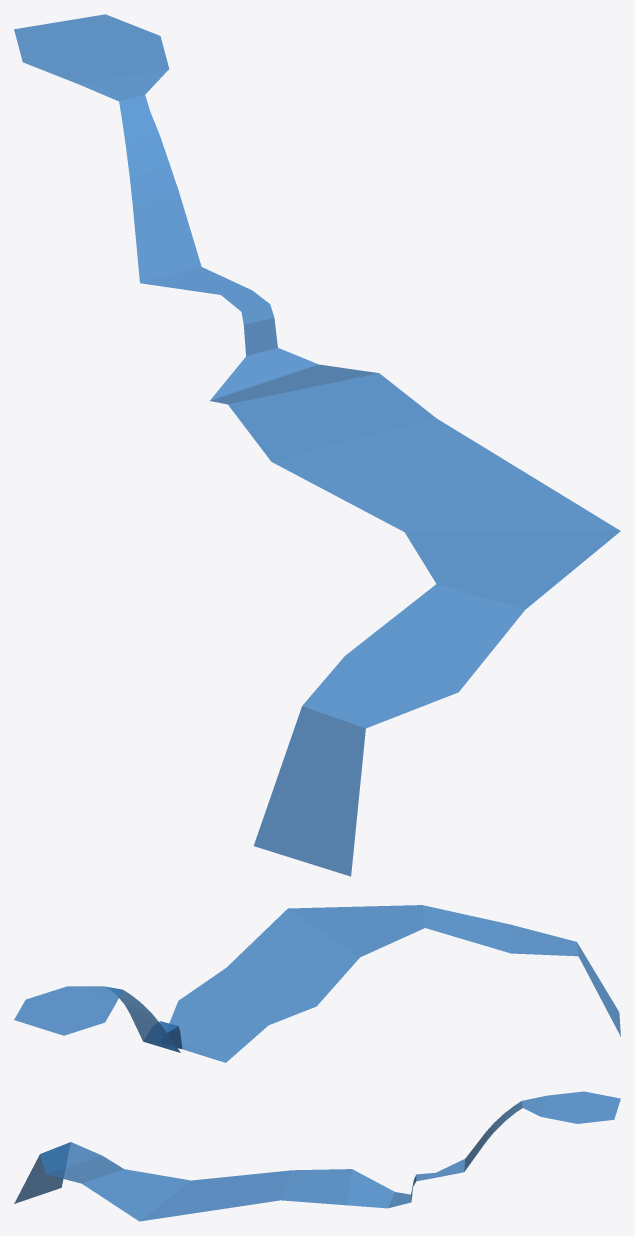
The model's file is BRUME_Blockout_D_Eau 1.fbx.
The picture shows the model from 3 angles, top to bottom: view 1: azimuth 30°, elevation 25°; view 2: azimuth 150°, elevation 25°; view 3: azimuth 270°, elevation 25°; orthographic projection. The views are drawn at different scales.
Visible parts, largest first — view 1: BRUME_Blockout_D_Eau; view 2: BRUME_Blockout_D_Eau; view 3: BRUME_Blockout_D_Eau.
Part boxes in pixels (box(x1,y1,x2,y2)): BRUME_Blockout_D_Eau: box(14, 14, 620, 876); BRUME_Blockout_D_Eau: box(14, 905, 620, 1062); BRUME_Blockout_D_Eau: box(14, 1091, 620, 1221).
Size of the model in its own units: 3169 by 2325 by 7455.
